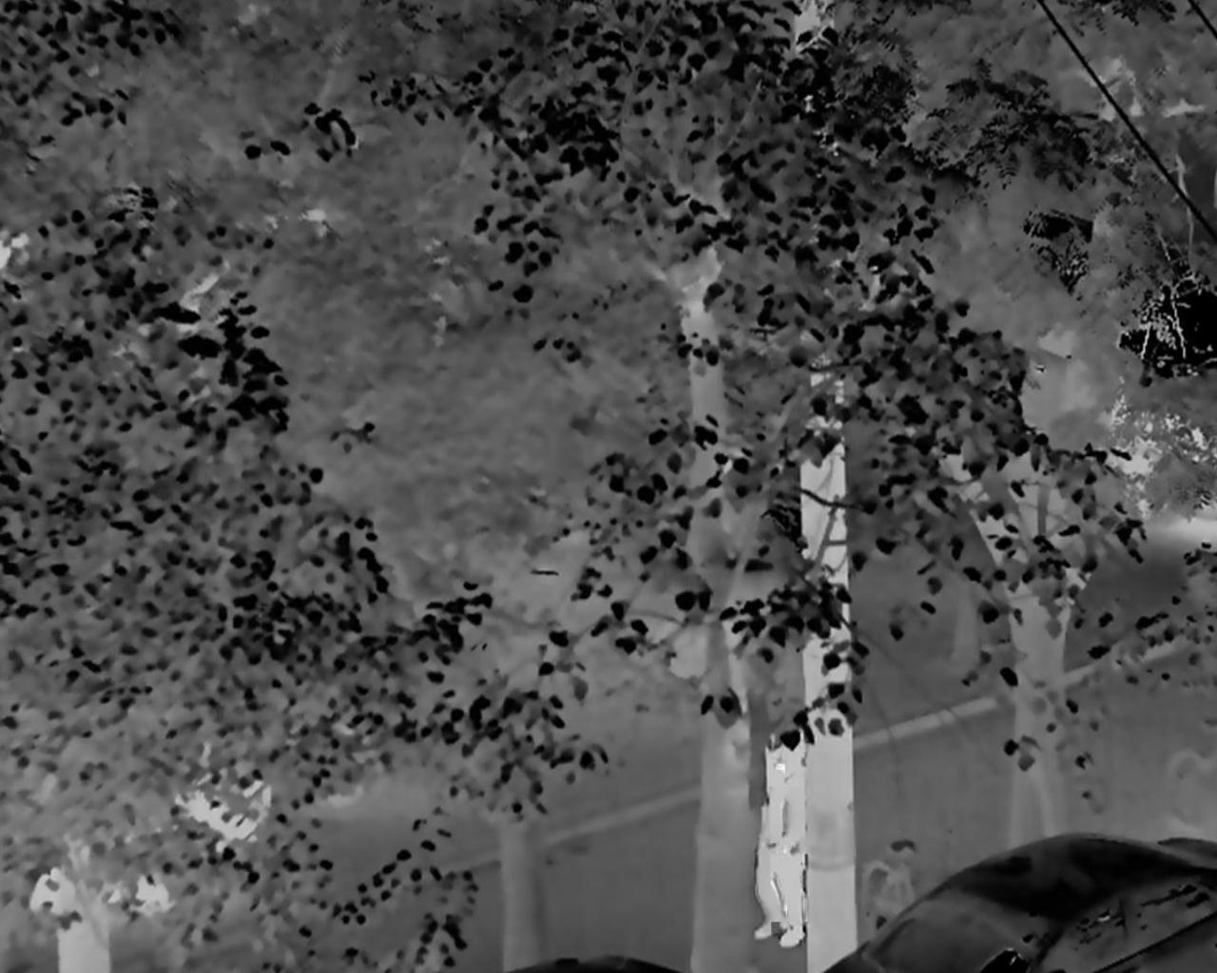person: (751, 726, 817, 951)
